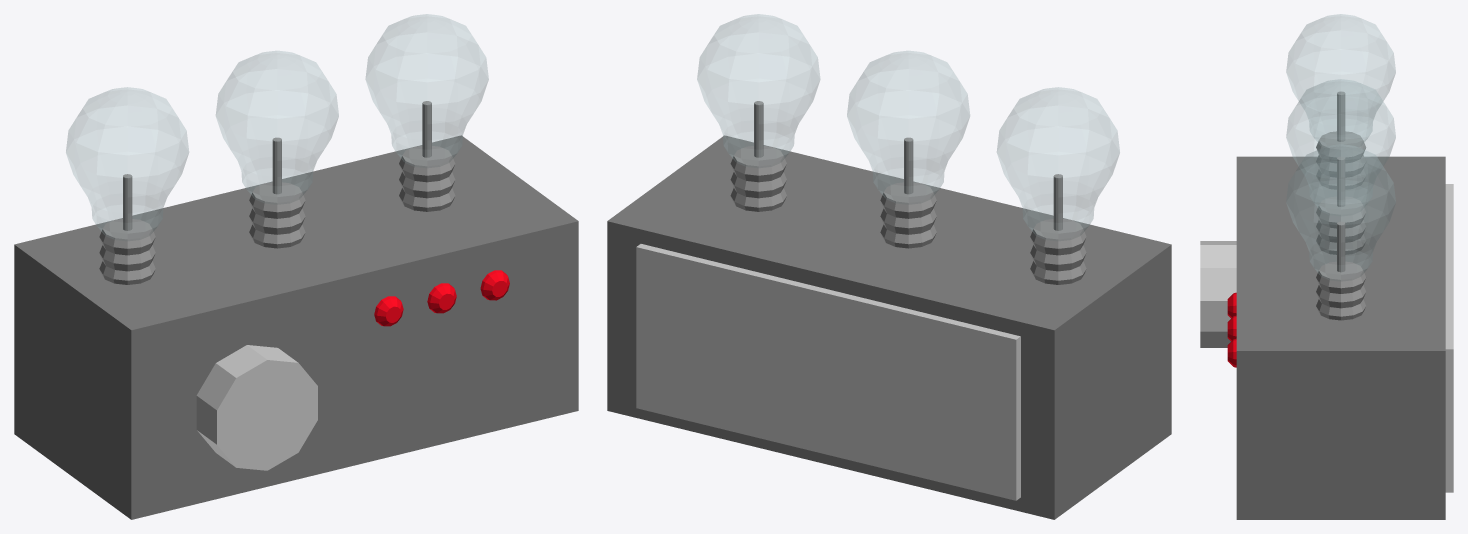
File: EngenhocaLampadas.fbx
3 renders of one model, left to right at view 1: azimuth 30°, elevation 25°; view 2: azimuth 150°, elevation 25°; view 3: azimuth 270°, elevation 25°, orthographic. The views are drawn at different scales.
Visible parts, largest first — view 1: EngenhocaComLampadas; view 2: EngenhocaComLampadas; view 3: EngenhocaComLampadas.
Boxes of the visible parts, <box> form: EngenhocaComLampadas: <box>14,14,578,519</box>; EngenhocaComLampadas: <box>607,14,1171,519</box>; EngenhocaComLampadas: <box>1200,14,1453,519</box>.
Bounding box in the file's own units: 42.09 × 33.45 × 23.21.
2 materials, 1 textured.
